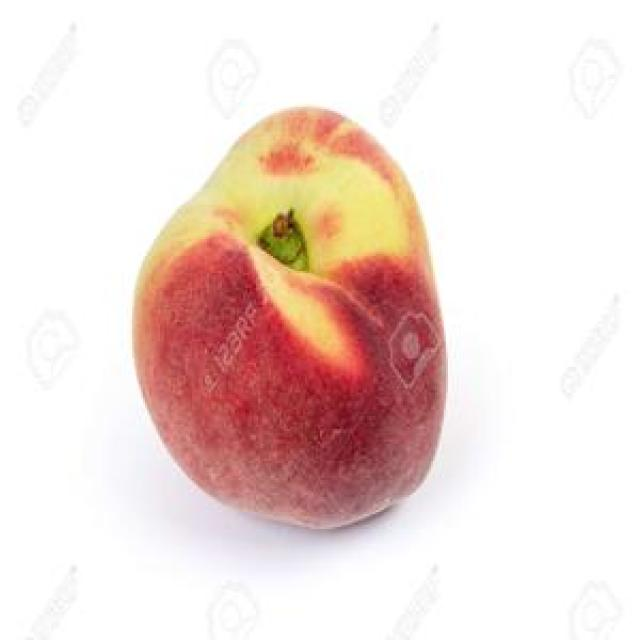peach: (134, 106, 445, 527), (135, 109, 444, 526)
